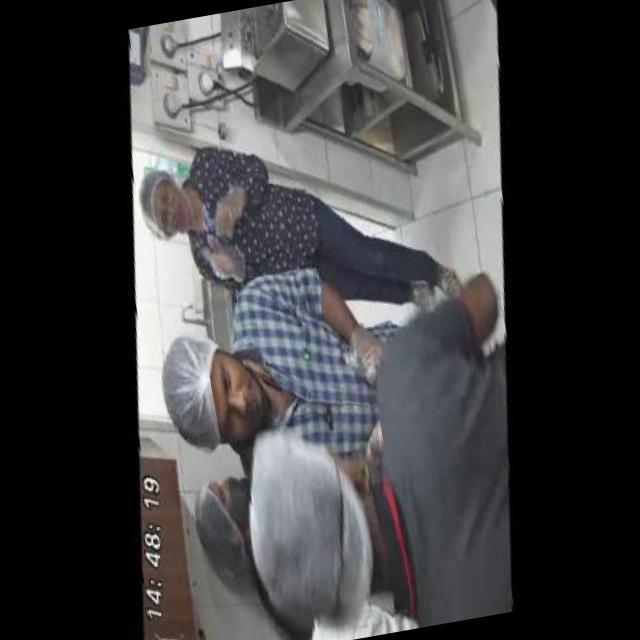hairnet: (230, 426, 360, 637), (155, 332, 224, 442), (190, 483, 252, 602), (133, 166, 172, 234)
